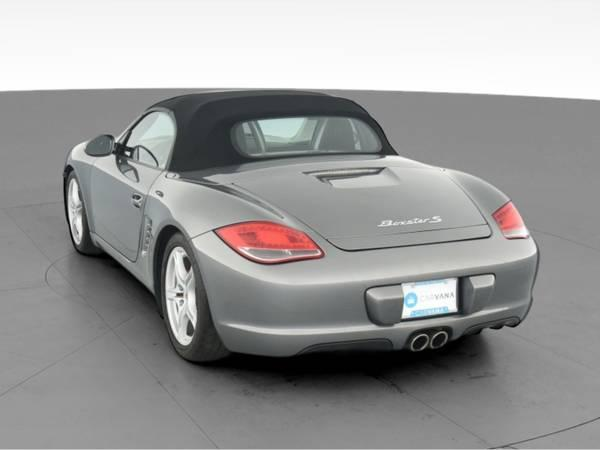Front_Fender: (63, 143, 103, 247)
Front_Left_Door: (89, 153, 165, 272)
Front_Left_Window: (112, 113, 176, 171)
Left_Taillight: (214, 221, 327, 264)
Rear_Bumper: (186, 228, 539, 352)
Rear_Fender: (128, 170, 284, 292)
Rear_Windshield: (228, 117, 377, 163)
Right_Taillight: (494, 198, 530, 237)
Roof: (115, 90, 394, 172)
Tailgate: (177, 154, 508, 253)
Wheel: (156, 228, 226, 361), (66, 173, 90, 254)
